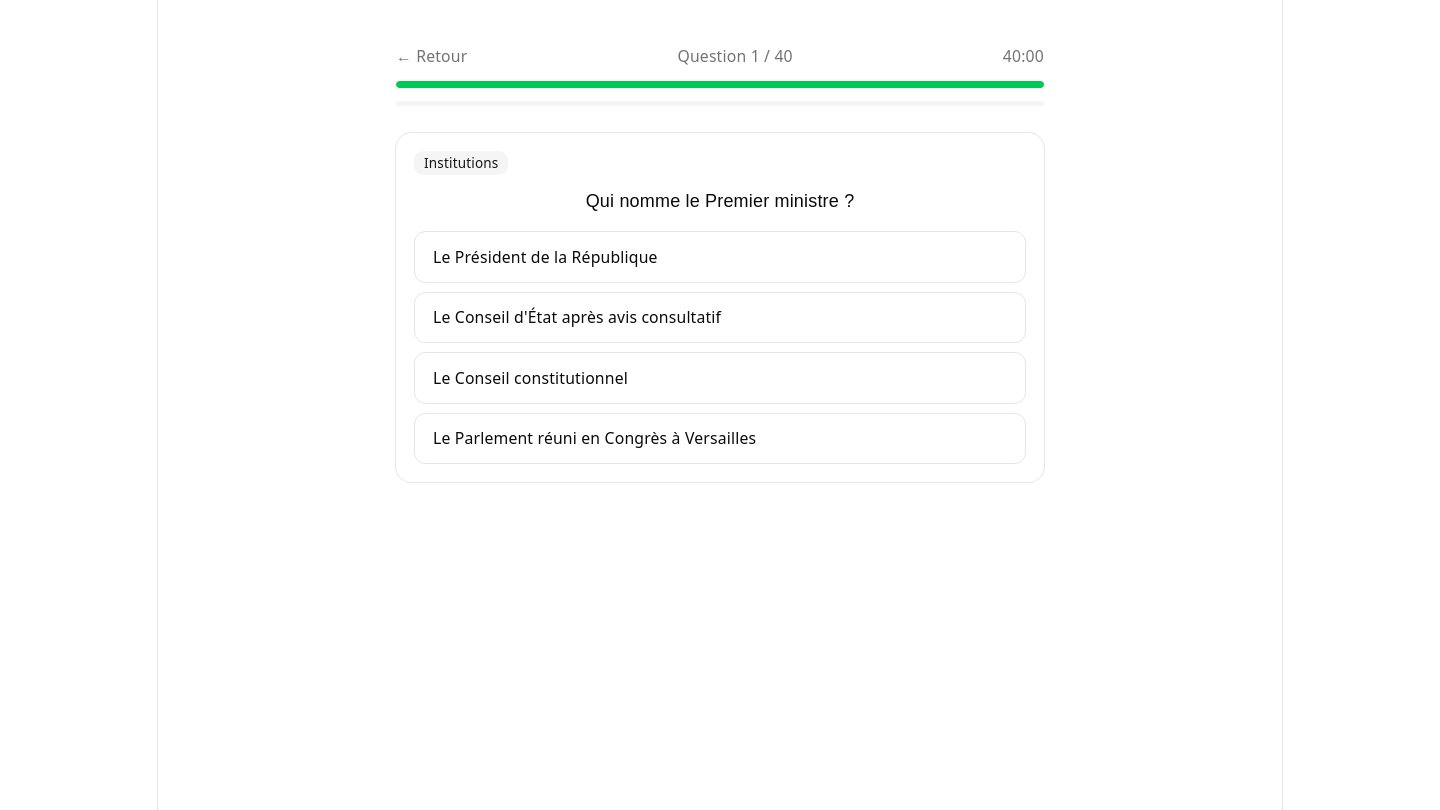
it: Examen › après validation, les boutons sont désactivés et l'explication apparaît
Click the button "Le Président de la République" at (545, 257), box [414,232,1026,283]
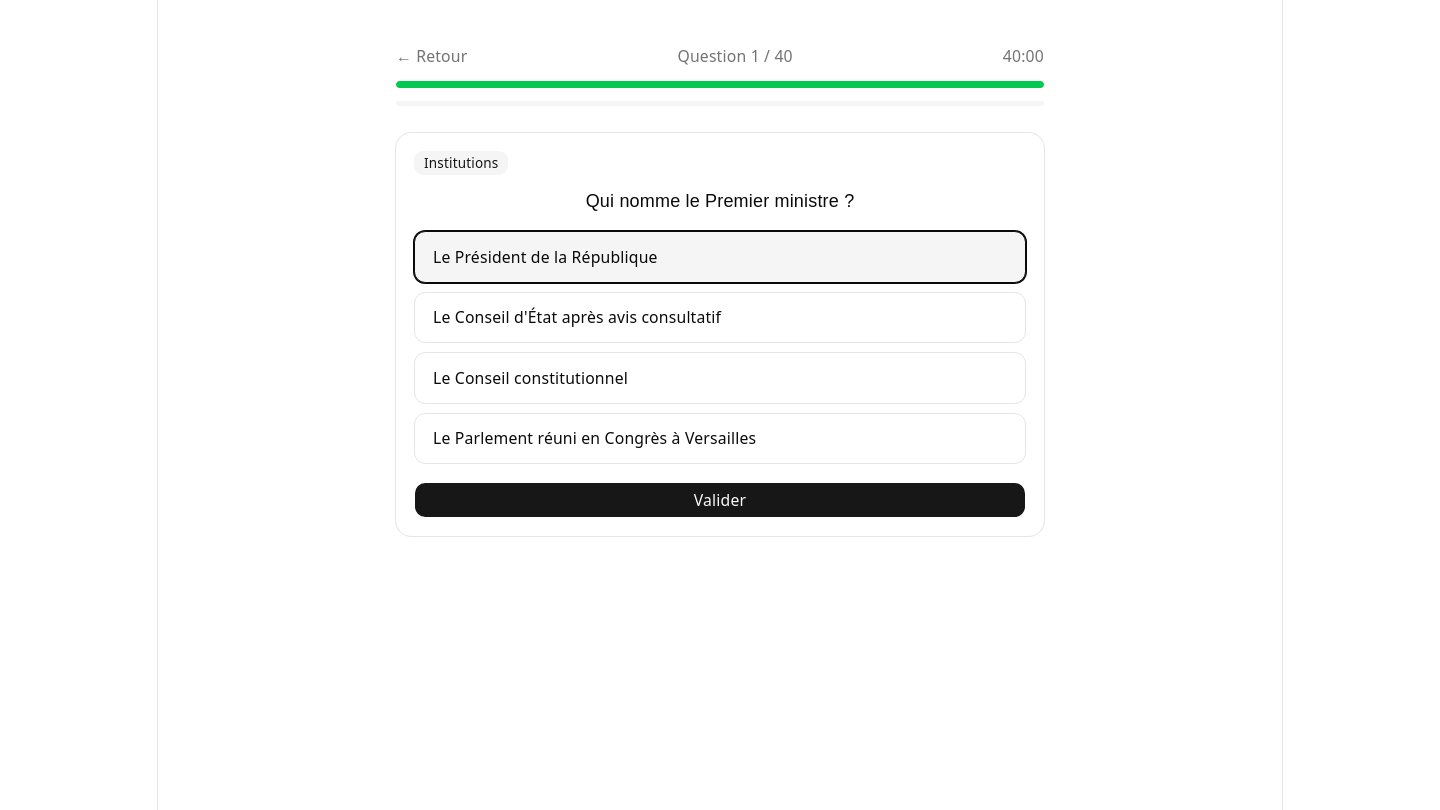
Click the button "Valider" at (720, 500), box [414,482,1026,518]
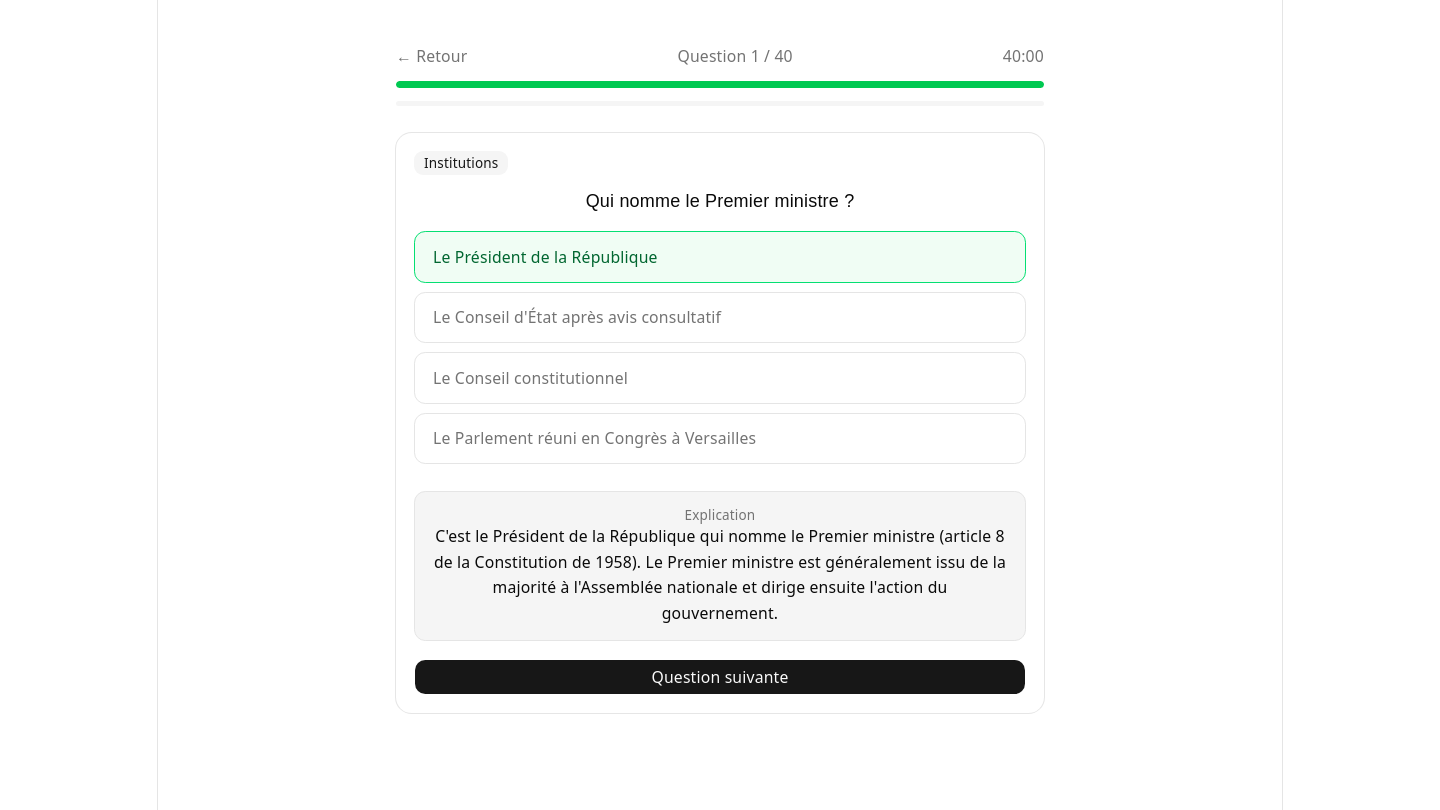
Expected: the button "Le Président de la République" is disabled, [414,232,1026,283]
Expected: the button "Le Conseil d'État après avis consultatif" is disabled, [414,292,1026,344]
Expected: the button "Le Conseil constitutionnel" is disabled, [414,352,1026,404]
